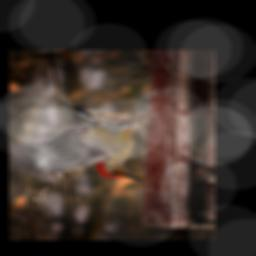Woodpecker: (12, 99, 144, 183)
